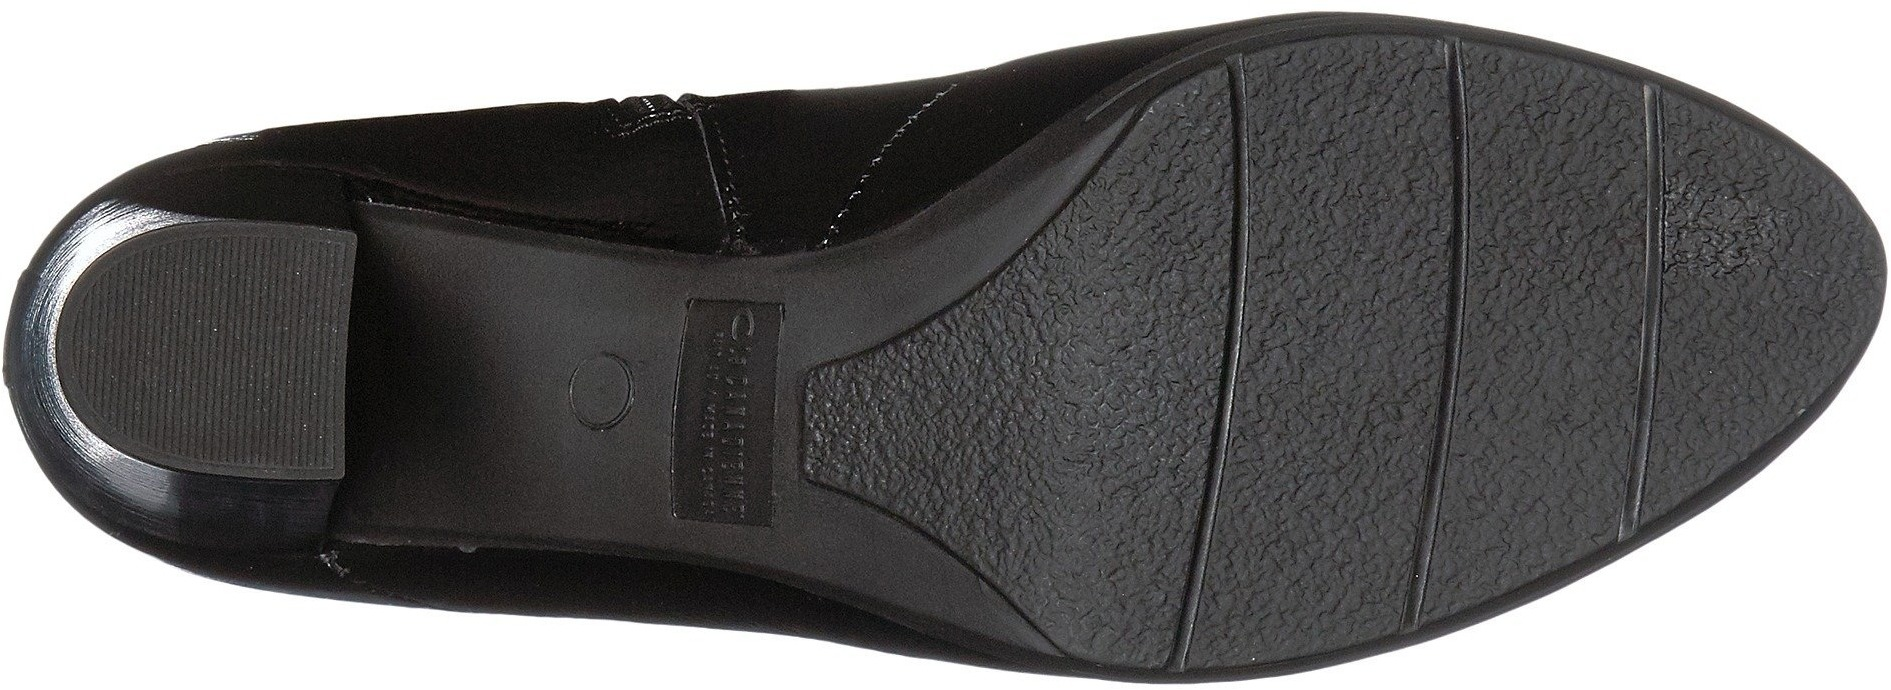other: (144, 256, 350, 442), (1253, 62, 1444, 250), (1668, 186, 1851, 374), (1249, 263, 1436, 442), (1042, 230, 1224, 404), (1225, 464, 1410, 631), (1471, 250, 1635, 416), (1032, 414, 1189, 580), (1485, 82, 1643, 233), (873, 353, 1020, 505), (1453, 432, 1594, 556)
